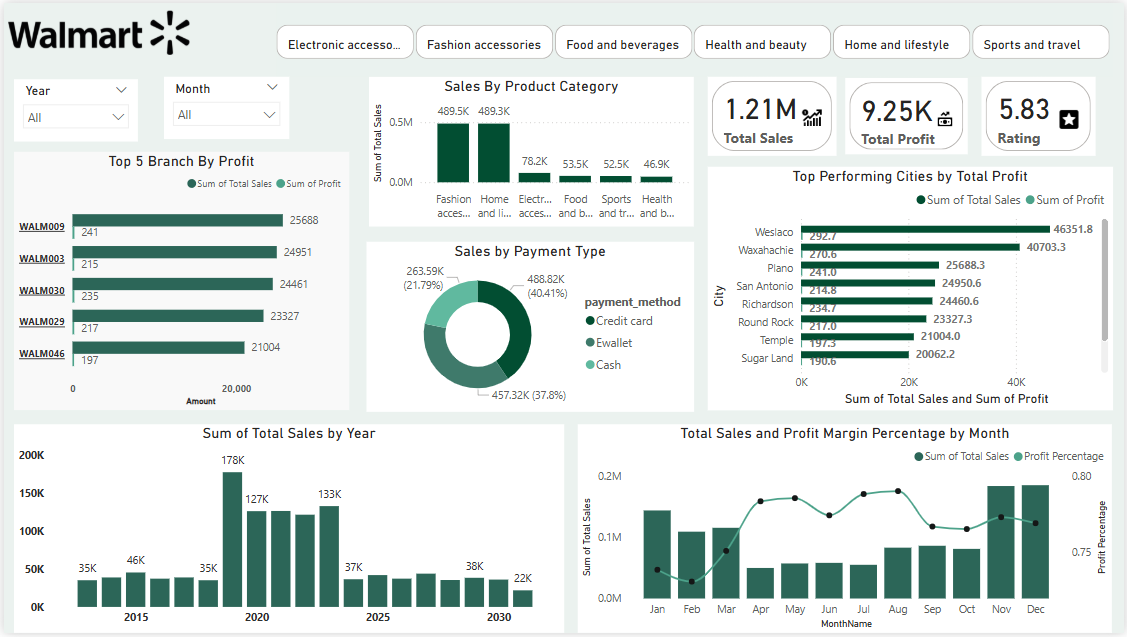

The page's visual inventory and layout, read from the dashboard file:
{"tool":"powerbi","page":{"name":"Page 1","canvas":[1280,720],"ordinal":0},"visuals":[{"type":"clusteredBarChart","title":"Top Performing Cities by Total Profit","fields":{"Category":["Wallmart.City"],"Y":["Sum(Wallmart.total)","Sum(Wallmart.Profit)"]},"box":[804,187.1,462.9,278.6],"z":0},{"type":"clusteredBarChart","title":"Top 5 Branch By Profit","fields":{"Category":["Wallmart.Branch"],"Y":["Sum(Wallmart.Total Sales)","Sum(Wallmart.Profit)"]},"box":[11,170.2,382.8,295],"z":1000},{"type":"lineStackedColumnComboChart","title":"Total Sales and Profit Margin Percentage by Month","fields":{"Y":["Sum(Wallmart.Total Sales)"],"Y2":["Measure Table (2).Profit Percentage"],"Category":["Wallmart.MonthName"]},"box":[655.9,481.6,610.6,238.8],"z":2000},{"type":"columnChart","fields":{"Category":["Wallmart.date.Variation.Date Hierarchy.Year"],"Y":["Sum(Wallmart.Total Sales)"]},"box":[11.4,481.4,628.6,238.6],"z":3000},{"type":"donutChart","title":"Sales by Payment Type","fields":{"Category":["Wallmart.payment_method"],"Y":["Sum(Wallmart.Total Sales)"]},"box":[414.3,272.9,374.3,194.3],"z":4000},{"type":"columnChart","title":"Sales By Product Category","fields":{"Category":["Wallmart.category"],"Y":["Sum(Wallmart.Total Sales)"]},"box":[417.1,84.3,371.4,171.4],"z":5000},{"type":"advancedSlicerVisual","fields":{"Values":["Wallmart.category"]},"box":[311.4,0,955.7,84.3],"z":6000},{"type":"slicer","fields":{"Values":["Wallmart.date.Variation.Date Hierarchy.Year"]},"box":[11.4,87.1,141.4,71.4],"z":7000},{"type":"slicer","fields":{"Values":["Wallmart.date.Variation.Date Hierarchy.Month"]},"box":[182.9,84.3,142.9,71.4],"z":8000},{"type":"cardVisual","fields":{"Data":["Sum(Wallmart.Total Sales)"]},"box":[804.3,84.3,147.1,90],"z":9000},{"type":"cardVisual","fields":{"Data":["Wallmart.Total Profit"]},"box":[961.4,85.7,140,87.1],"z":10000},{"type":"image","box":[0,0,217.1,68.6],"z":11000},{"type":"cardVisual","fields":{"Data":["Measure Table (2).Average Rating"]},"box":[1117.1,84.3,130,90],"z":12000}]}

Visuals, with their boxes in screenshot pixels (x1, y1, x2, y2), scaled from the page's 1280x720 canvas onto the 1127x637 screenshot:
"Top Performing Cities by Total Profit" clusteredBarChart: (x1=708, y1=166, x2=1115, y2=412)
"Top 5 Branch By Profit" clusteredBarChart: (x1=10, y1=151, x2=347, y2=412)
"Total Sales and Profit Margin Percentage by Month" lineStackedColumnComboChart: (x1=577, y1=426, x2=1115, y2=636)
columnChart - Wallmart.date.Variation.Date Hierarchy.Year x Sum(Wallmart.Total Sales): (x1=10, y1=426, x2=564, y2=636)
"Sales by Payment Type" donutChart: (x1=365, y1=241, x2=694, y2=413)
"Sales By Product Category" columnChart: (x1=367, y1=75, x2=694, y2=226)
advancedSlicerVisual - Wallmart.category: (x1=274, y1=0, x2=1116, y2=75)
slicer - Wallmart.date.Variation.Date Hierarchy.Year: (x1=10, y1=77, x2=135, y2=140)
slicer - Wallmart.date.Variation.Date Hierarchy.Month: (x1=161, y1=75, x2=287, y2=138)
cardVisual - Sum(Wallmart.Total Sales): (x1=708, y1=75, x2=838, y2=154)
cardVisual - Wallmart.Total Profit: (x1=846, y1=76, x2=970, y2=153)
image: (x1=0, y1=0, x2=191, y2=61)
cardVisual - Measure Table (2).Average Rating: (x1=984, y1=75, x2=1098, y2=154)
